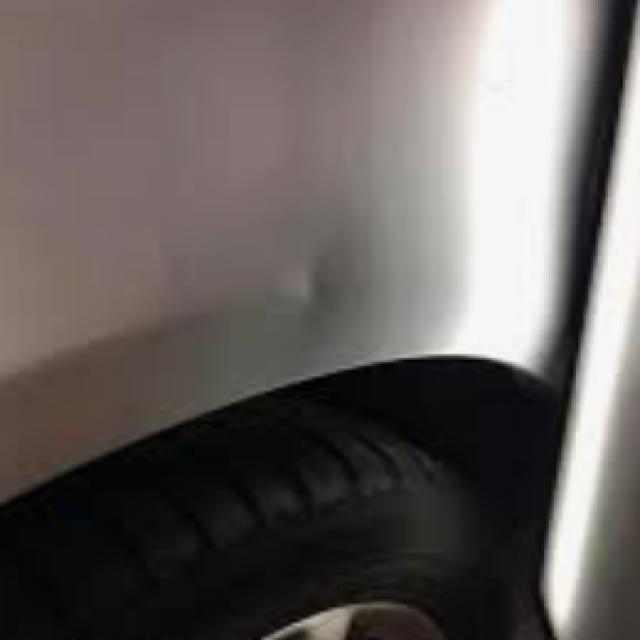dents: (272, 232, 407, 368)
